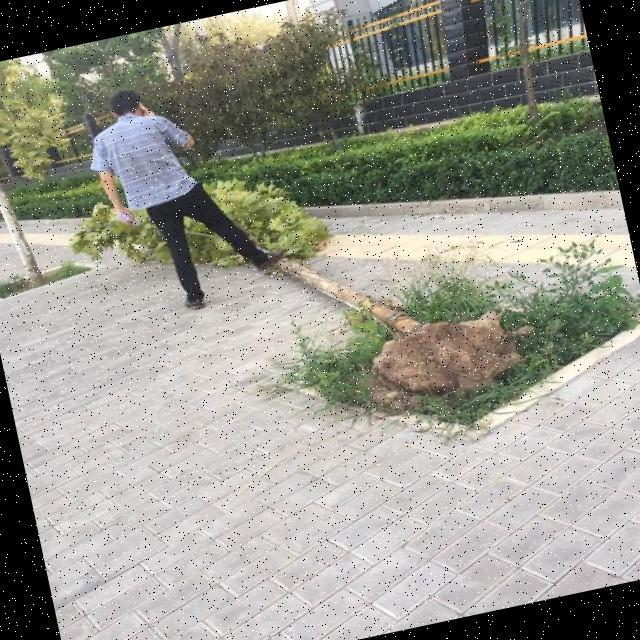fallen_object: (57, 119, 535, 471)
